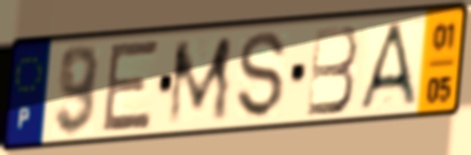9: (53, 42, 98, 140)
A: (355, 19, 421, 113)
B: (304, 22, 360, 120)
E: (99, 37, 162, 136)
M: (164, 33, 235, 129)
S: (236, 29, 289, 121)
